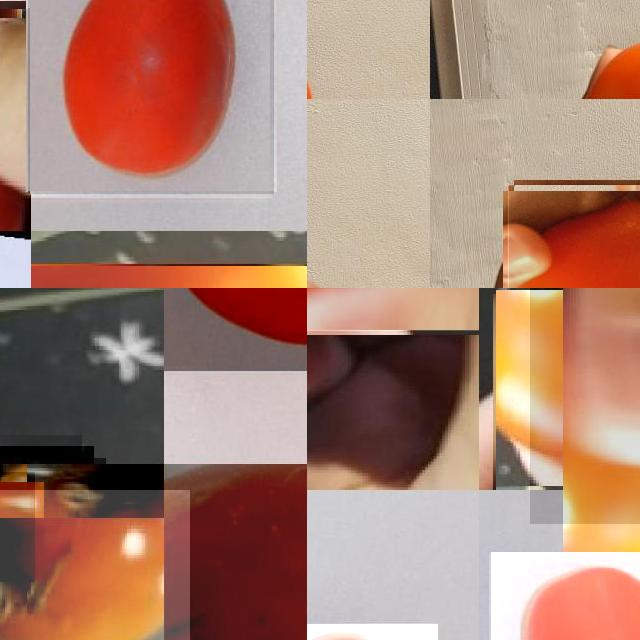0: (0, 490, 190, 640), (164, 288, 307, 371), (0, 472, 35, 582)
1: (164, 464, 307, 640)
Fresh Tomato: (28, 0, 274, 194), (529, 288, 640, 523), (508, 185, 640, 288), (491, 552, 640, 640), (307, 288, 479, 330), (0, 9, 31, 231)
